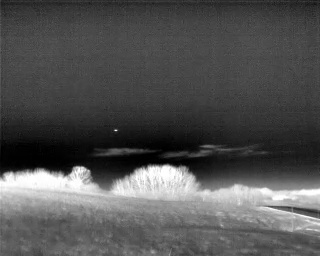AIRPLANE: (113, 127, 119, 133)
